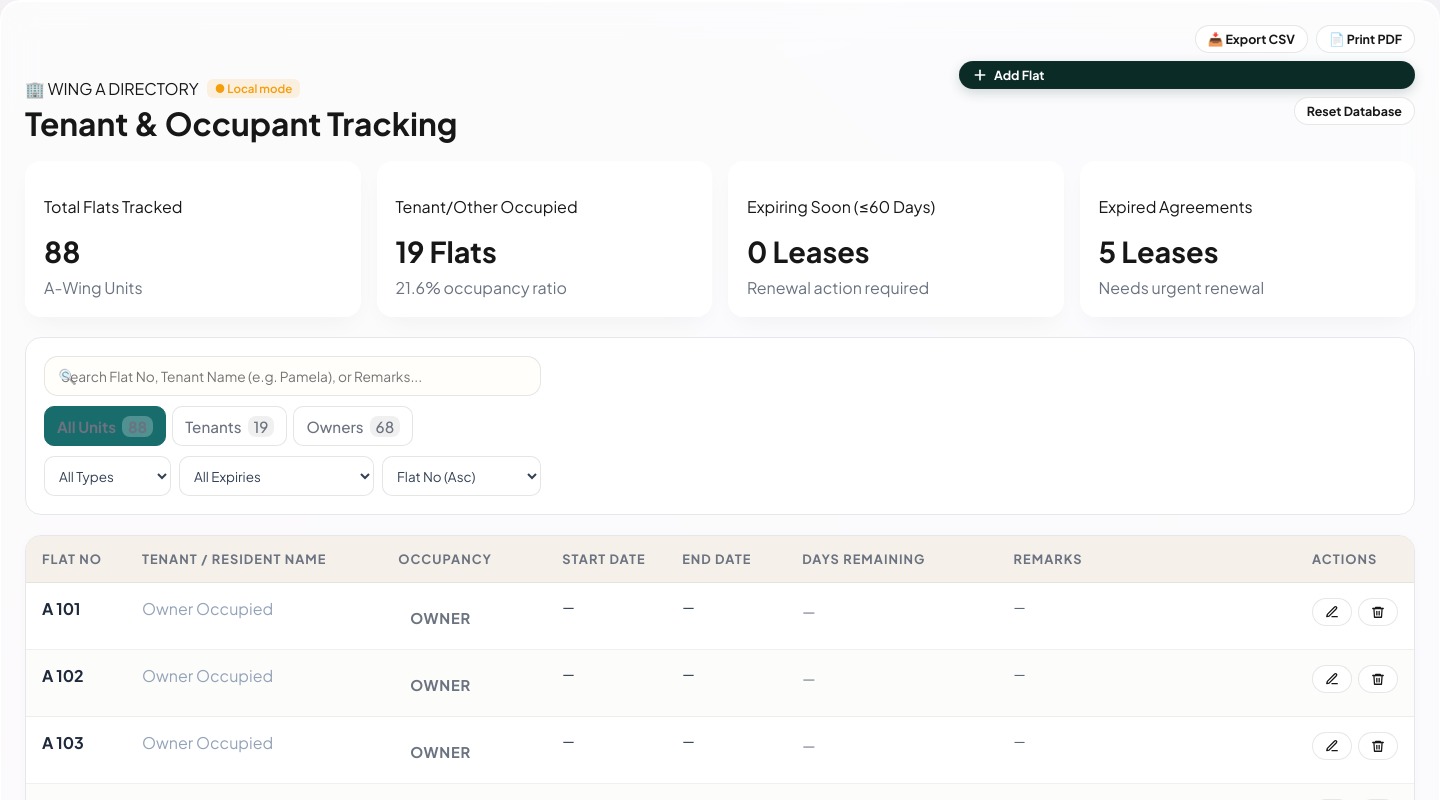
Test case: TenantTracker - Admin Actions Modals › opens add flat modal when Add Flat button is clicked
Click the button "Add Flat": (1019, 75) [959,61,1415,89]
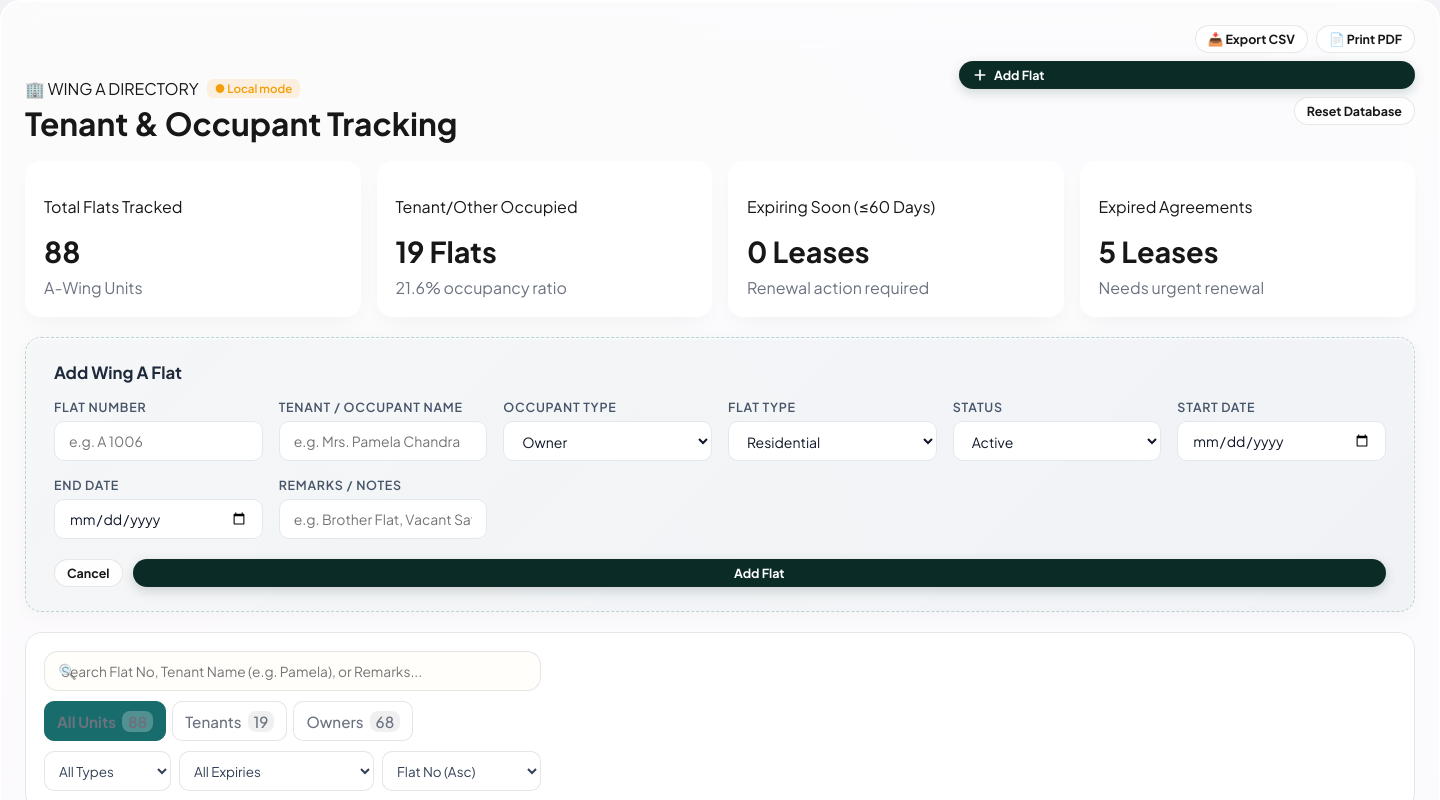
Result: the heading "Add Wing A Flat" is shown at [54,362,182,383]
Result: the field labelled "Flat Number" is shown at [54,421,263,461]
Result: the field labelled "Tenant / Occupant Name" is shown at [279,421,487,461]
